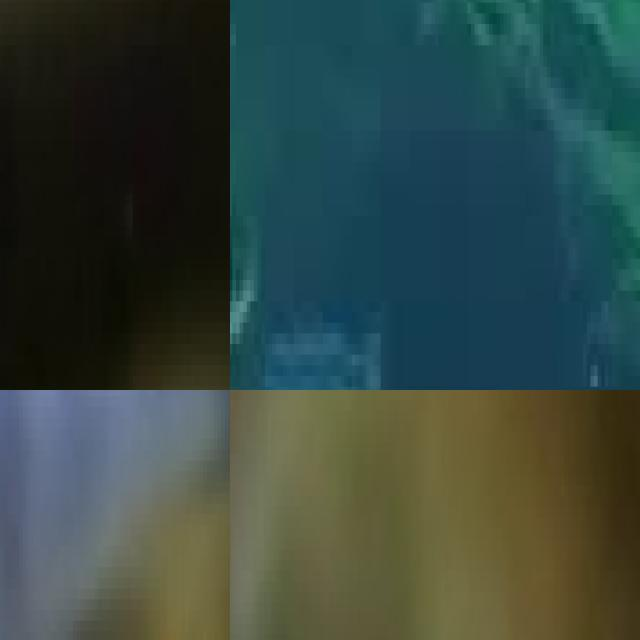fish: (0, 0, 230, 390), (0, 390, 230, 640)
